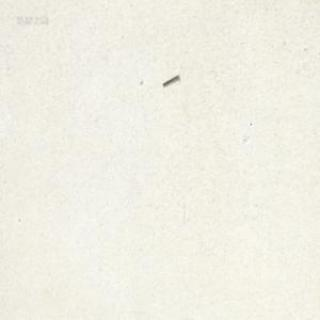Bolttrack_idkeyframe: (160, 74, 178, 86)
